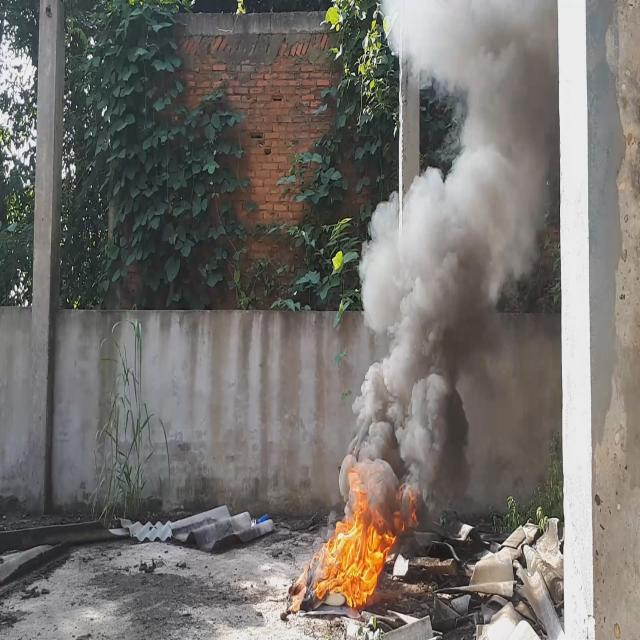Fire: (314, 460, 399, 610)
Smoke: (341, 0, 555, 522)
